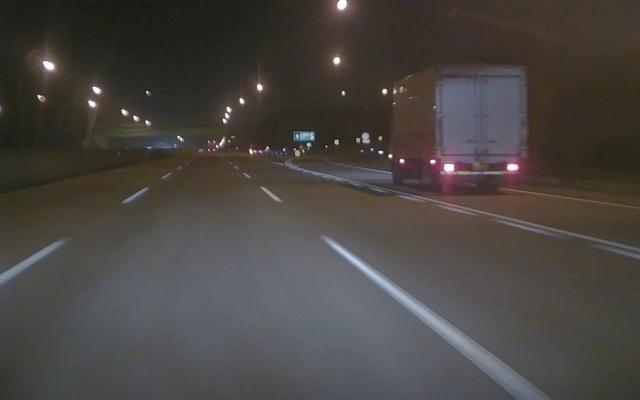lane: (256, 184, 553, 399), (327, 175, 640, 262), (2, 189, 146, 285)
